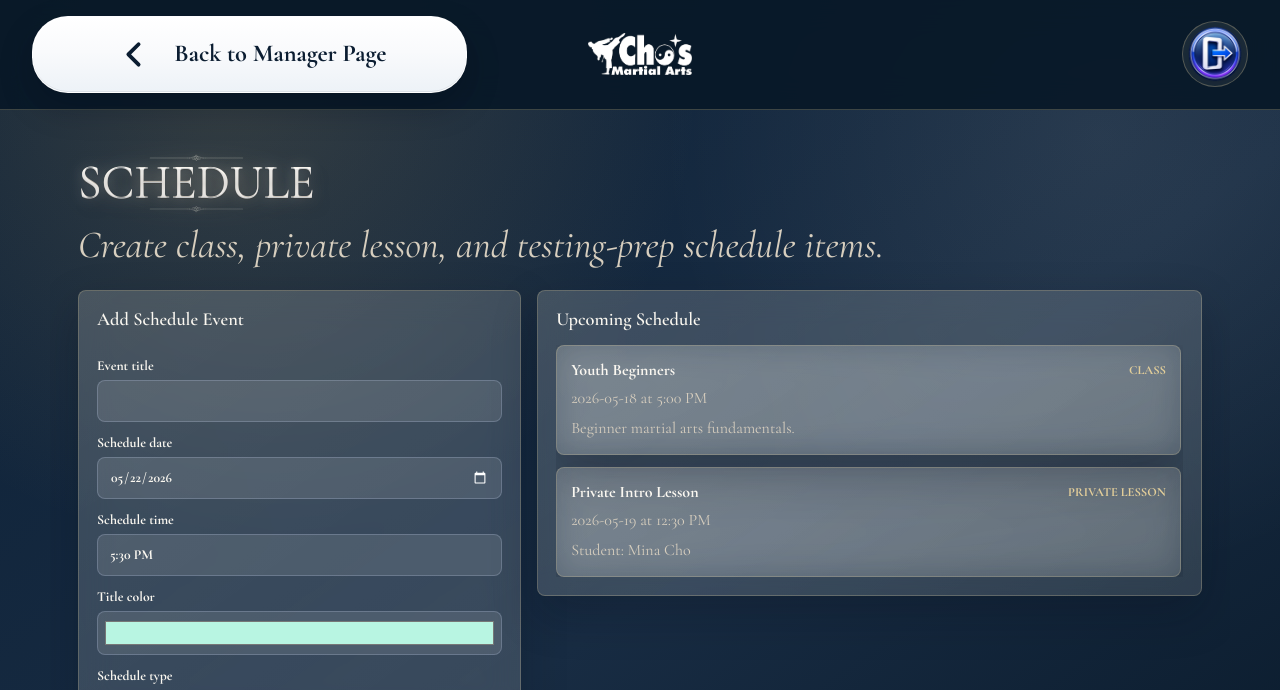
Test: post-login operations app › lets staff make a schedule item recurring from the existing Scheduling page
The image size is (1280, 690).
Type "Friday Demo Class" into the field labelled "Event title".
click(300, 401); type("Friday Demo Class")  # box top-left (97, 380), bottom-right (502, 422)
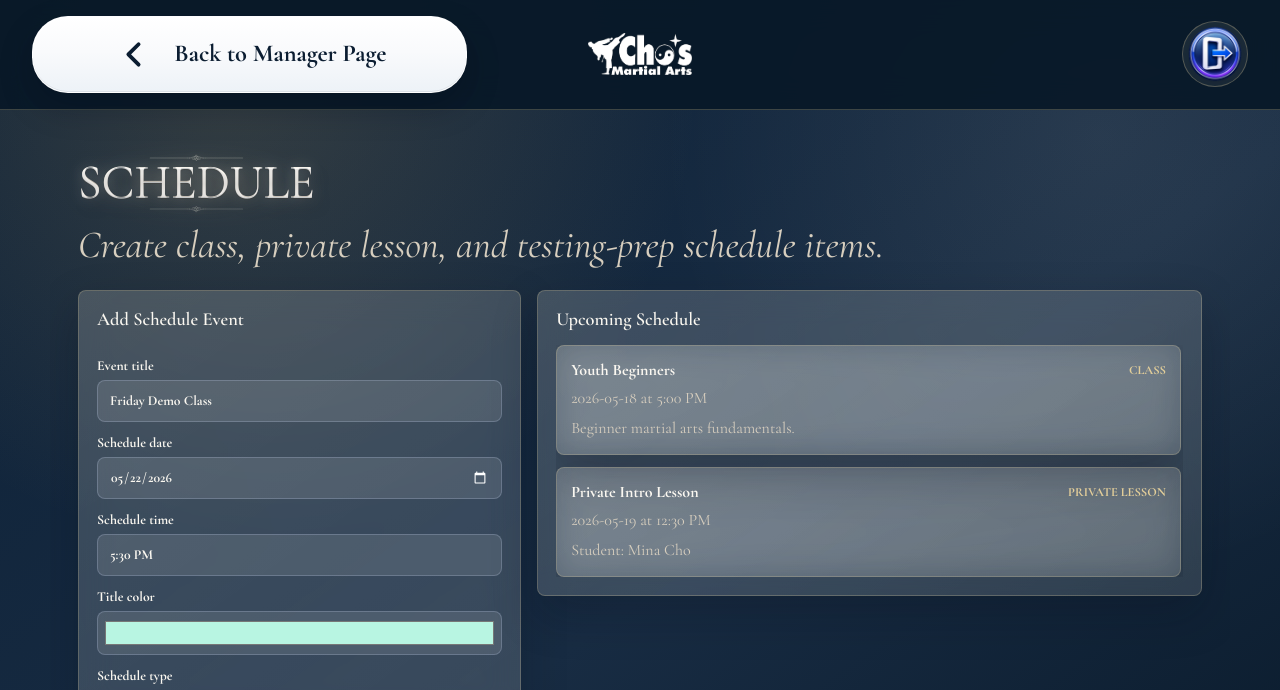
Type "2026-05-15" into the date field labelled "Schedule date".
click(300, 478); type("2026-05-15")  # box top-left (97, 457), bottom-right (502, 499)
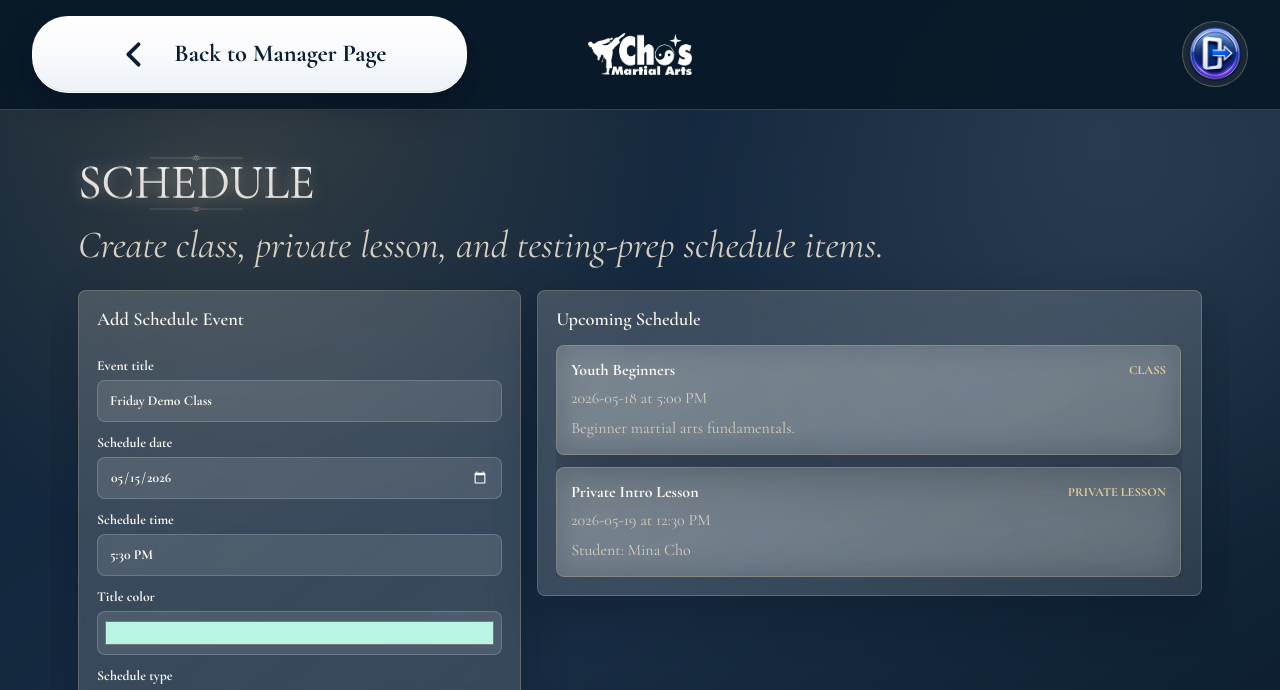
Replace the text in the field labelled "Schedule time" with "6:15 PM" at (300, 555), box top-left (97, 534), bottom-right (502, 576)
(page scrolled)
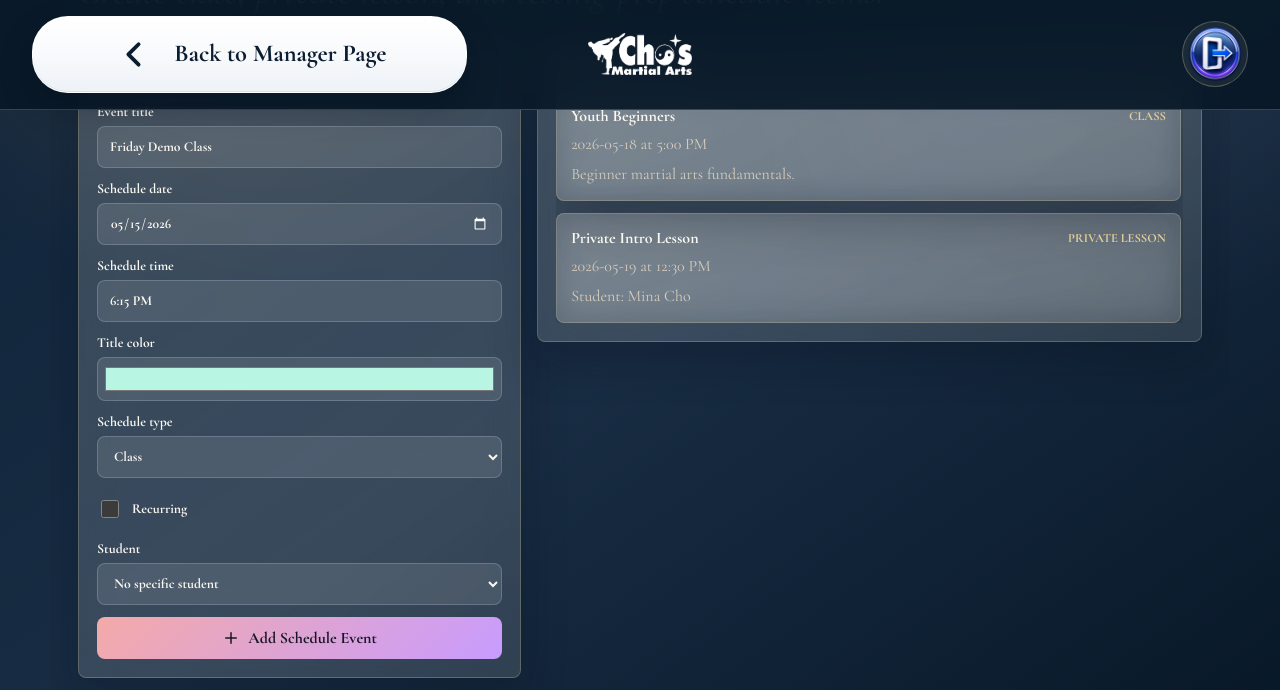
Click the checkbox labelled "Recurring".
click(110, 509)  # box top-left (101, 500), bottom-right (119, 518)
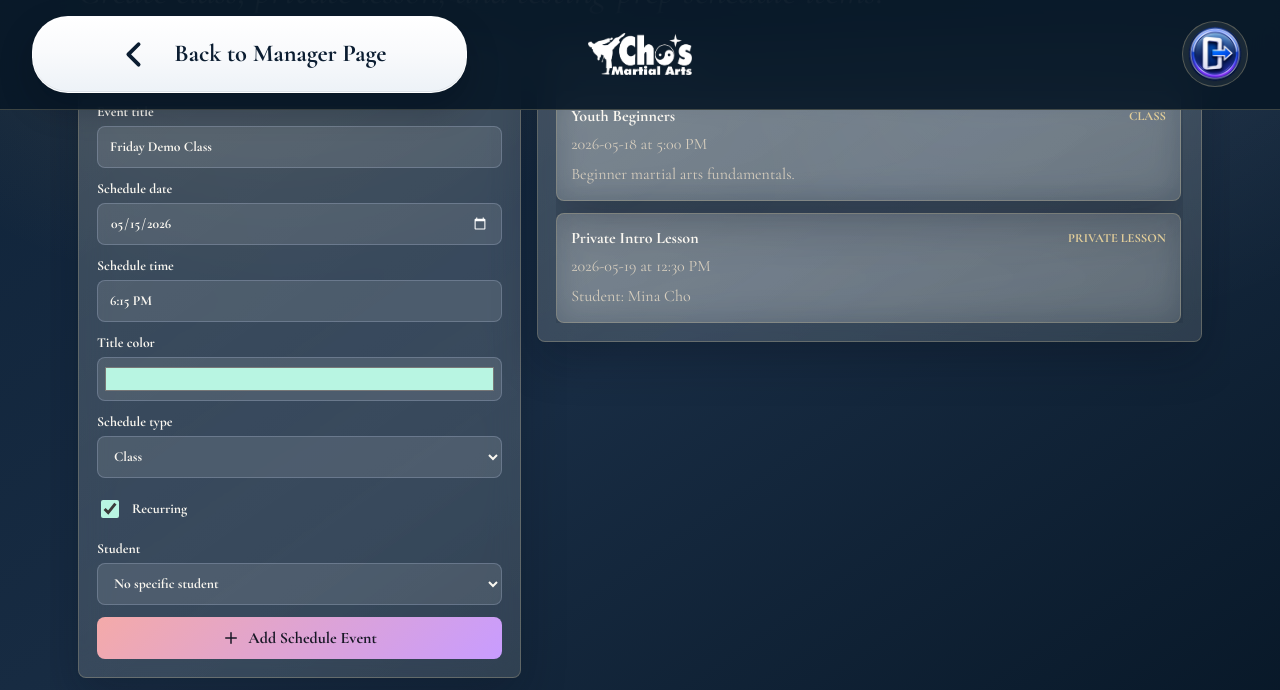
Click the button "Add Schedule Event".
click(300, 638)  # box top-left (97, 617), bottom-right (502, 659)
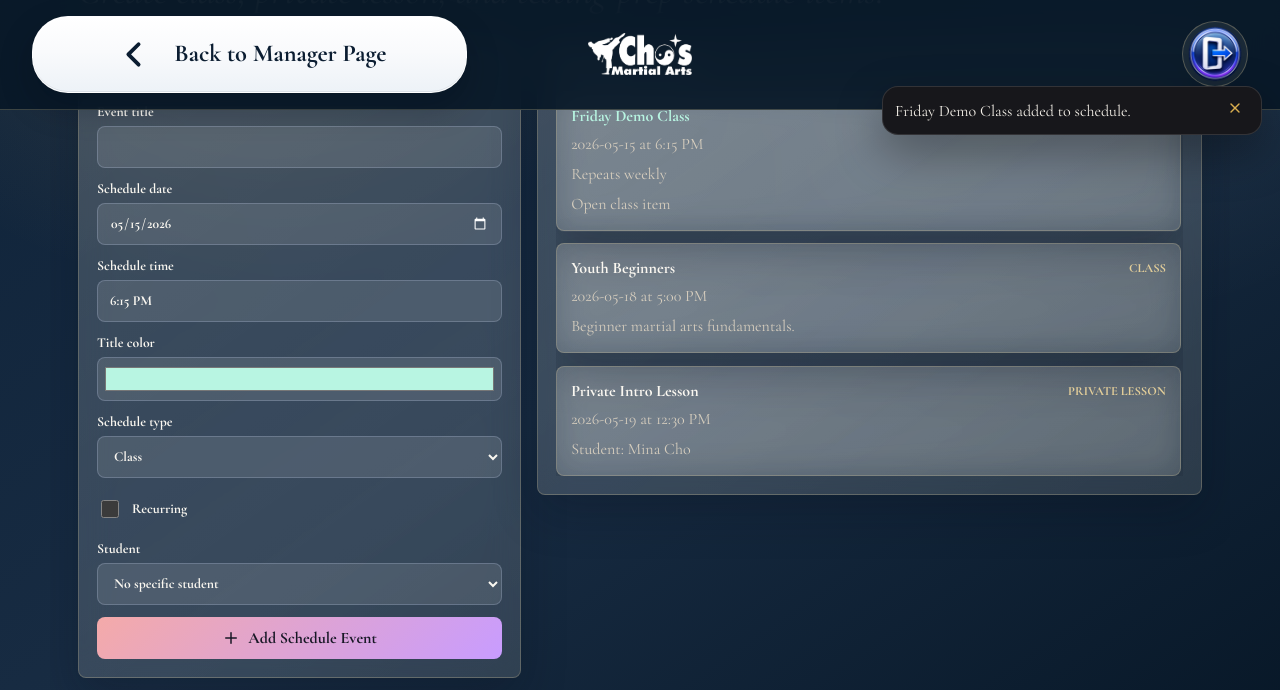
Result: the text "Repeats weekly" is shown at top-left (571, 164), bottom-right (667, 184)
Result: the text "Friday Demo Class" is shown at top-left (571, 106), bottom-right (690, 126)
Result: the text "2026-05-15 at 6:15 PM" is shown at top-left (571, 134), bottom-right (703, 154)
